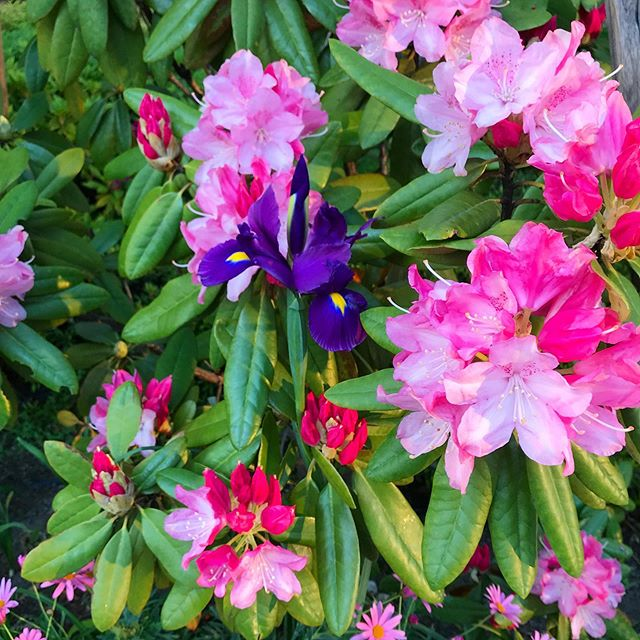flowers: (1, 1, 640, 627)
